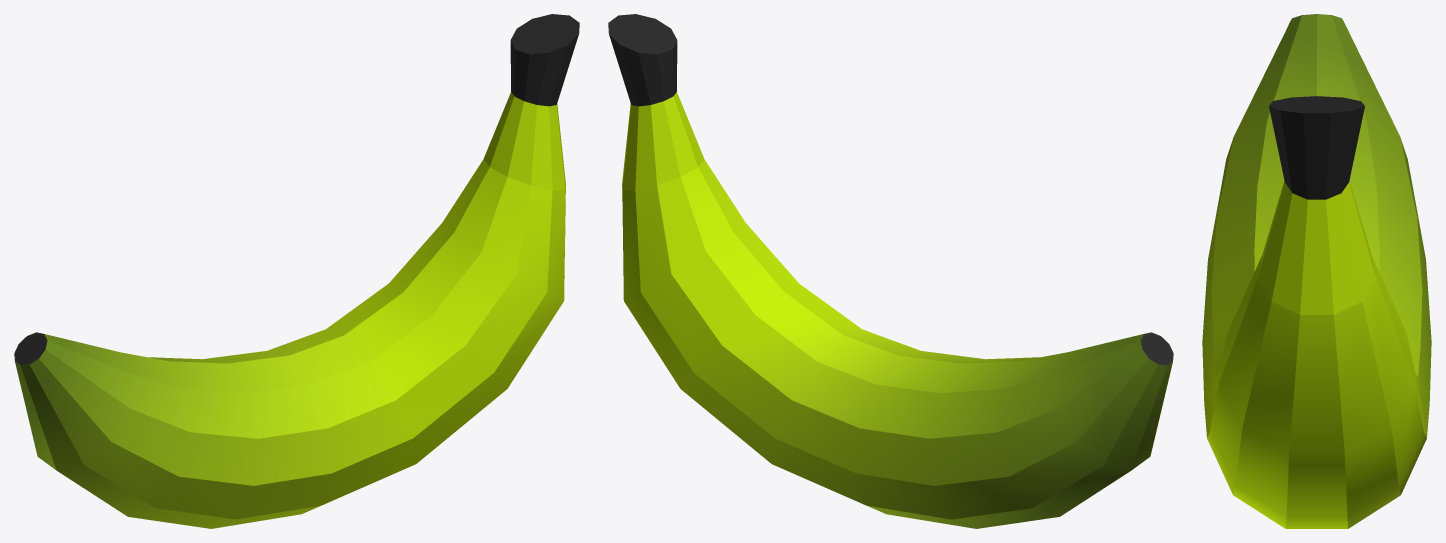
The model's file is banana.fbx.
3 views of the same model, side by side, from view 1: azimuth 30°, elevation 25°; view 2: azimuth 150°, elevation 25°; view 3: azimuth 270°, elevation 25° (orthographic). The views are drawn at different scales.
Parts seen in each view (by area): view 1: banana; view 2: banana; view 3: banana.
Part boxes in pixels (left/top/right/bottom): banana: left=14, top=14, right=579, bottom=528; banana: left=608, top=14, right=1173, bottom=528; banana: left=1202, top=14, right=1431, bottom=528.
Size of the model in its own units: 77.62 by 55.51 by 20.53.
1 material, 1 textured.
